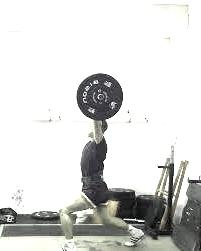Barbell: (95, 94, 103, 103)
